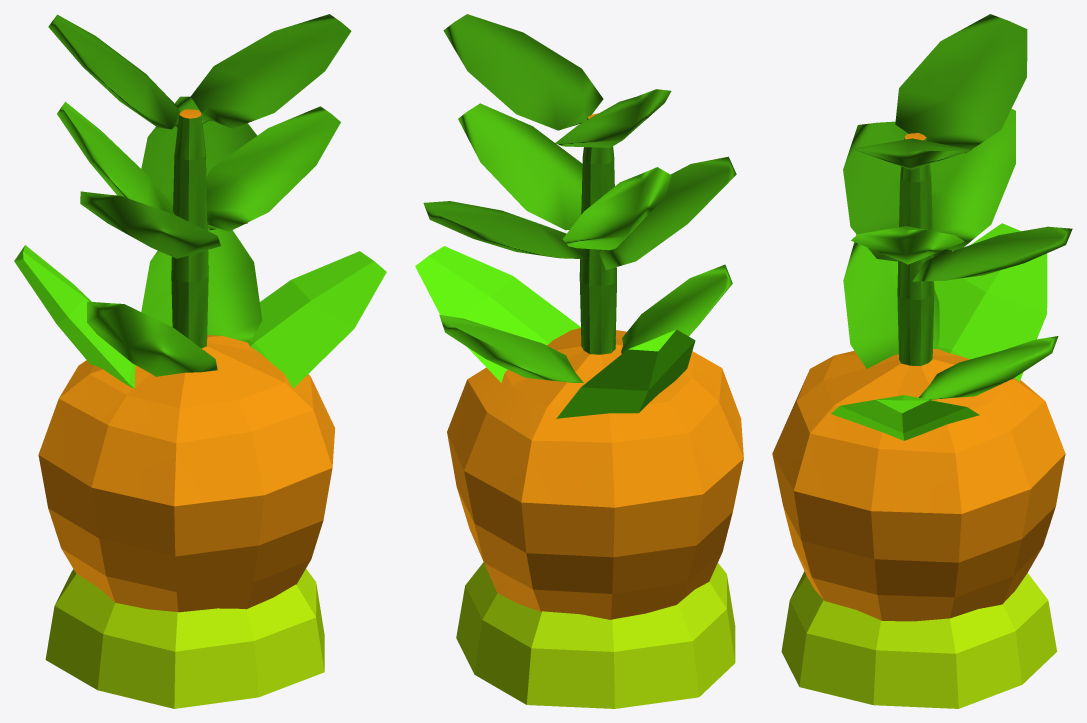
The model's file is cenoura.glb.
3 renders of one model, left to right at view 1: azimuth 30°, elevation 25°; view 2: azimuth 150°, elevation 25°; view 3: azimuth 270°, elevation 25°, orthographic. The views are drawn at different scales.
Visible parts, largest first — view 1: stage_5, stage_4, stage_3; view 2: stage_5, stage_4, stage_3; view 3: stage_5, stage_4, stage_3.
Boxes of the visible parts, x1=… form: stage_5: x1=38, y1=14, x2=351, y2=612; stage_4: x1=45, y1=101, x2=340, y2=708; stage_3: x1=14, y1=245, x2=386, y2=388; stage_5: x1=423, y1=14, x2=743, y2=619; stage_4: x1=439, y1=103, x2=735, y2=708; stage_3: x1=415, y1=246, x2=695, y2=418; stage_5: x1=772, y1=14, x2=1072, y2=621; stage_4: x1=781, y1=108, x2=1058, y2=708; stage_3: x1=831, y1=223, x2=1047, y2=440.
Size of the model in its own units: 0.7115 by 1.36 by 0.6173.
